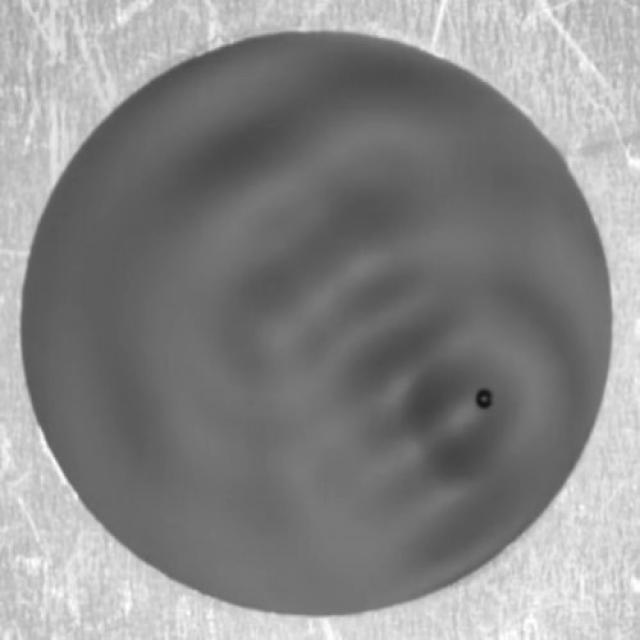droplet: (476, 387, 493, 412)
